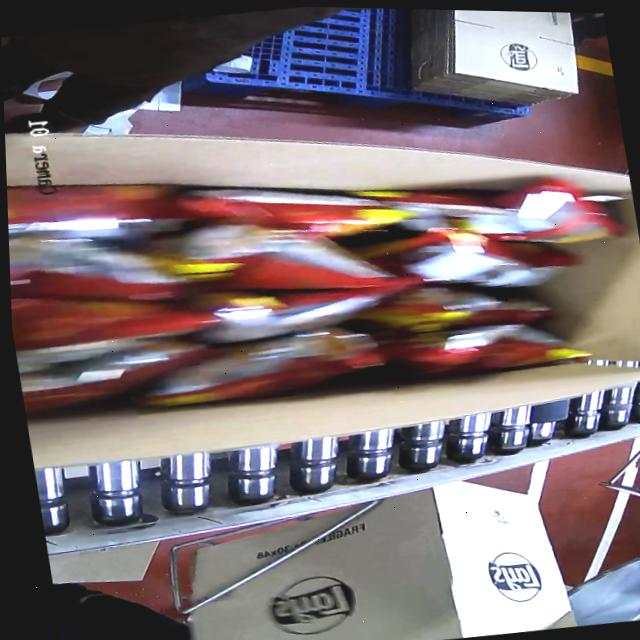MASALA: (5, 126, 632, 446)
